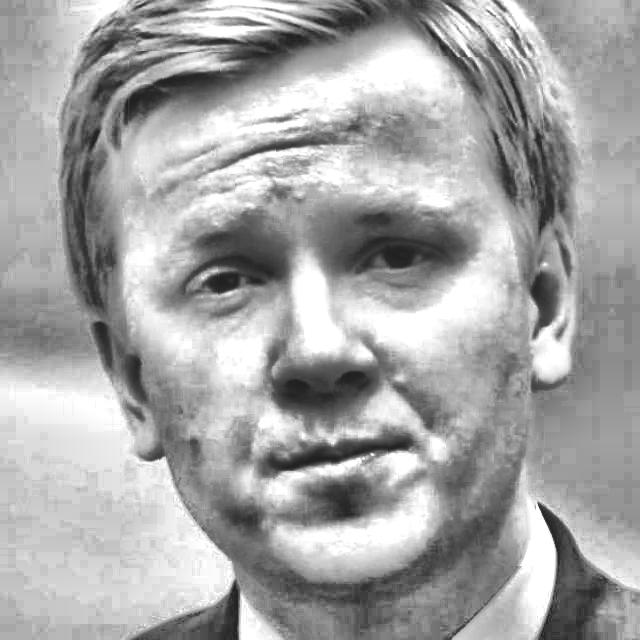sad: (122, 53, 541, 565)
